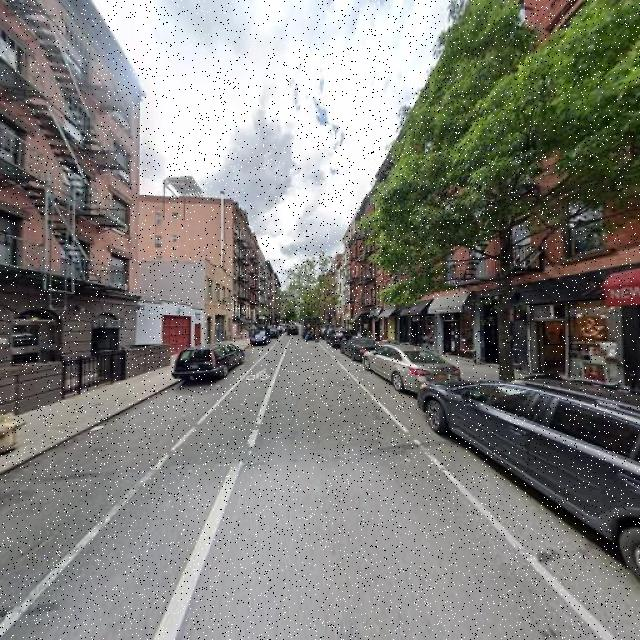Building: (450, 1, 637, 402), (1, 1, 140, 393), (207, 263, 233, 339)
